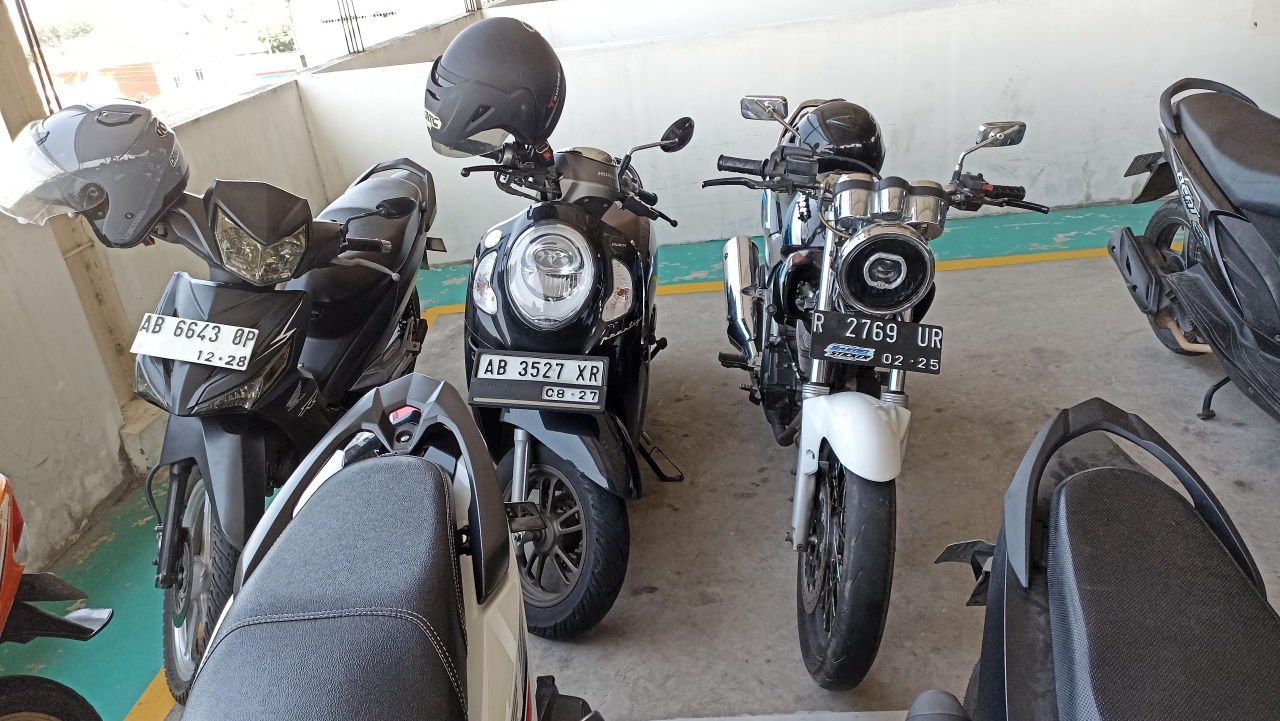plate: (469, 349, 608, 411), (810, 311, 943, 374), (130, 313, 258, 370)
